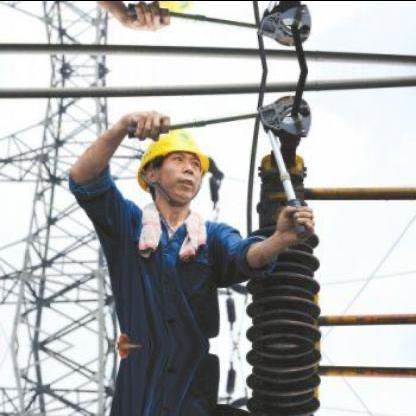Helmet: (134, 125, 218, 205)
